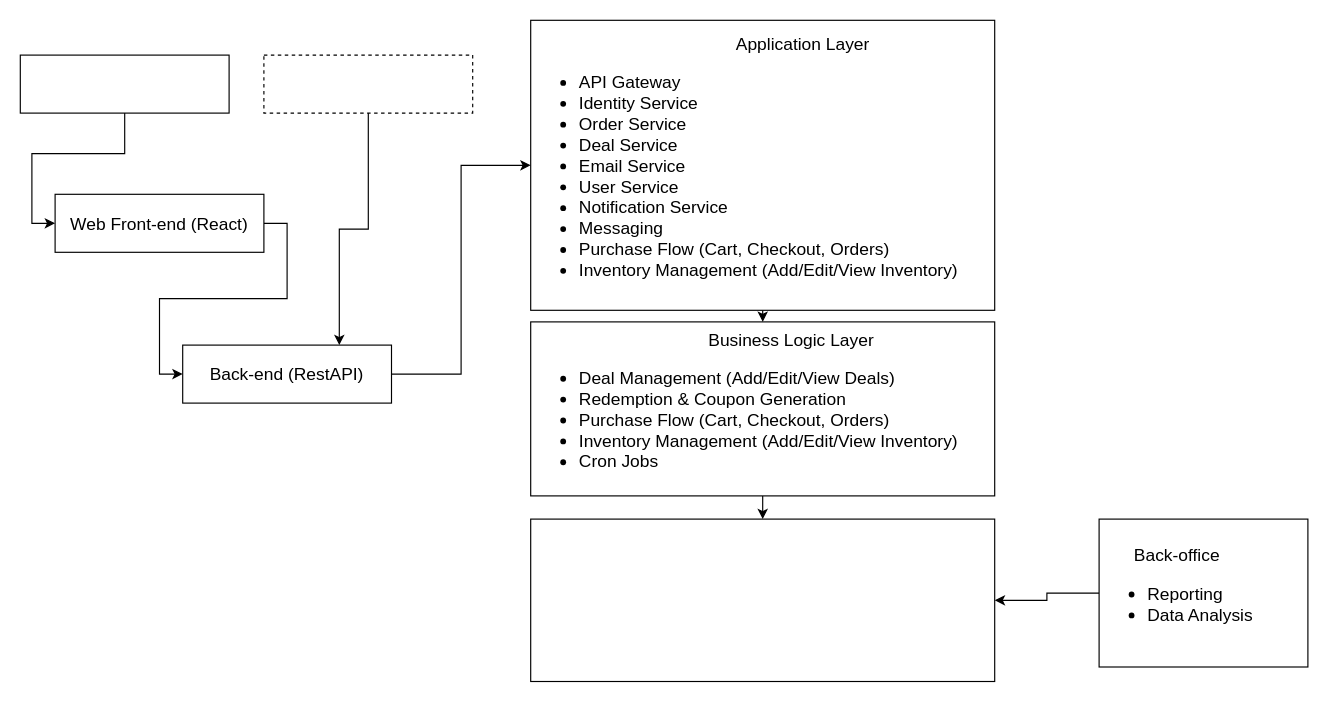
Some shapes in this 1328 by 702 pixel diagram are drawn without their labels. Here are the shapes that lost their labels. From the top down, the box of each, then its label:
(19, 54, 229, 113): Users (Web / Mobile)
(263, 54, 473, 113): Mobile App
(530, 518, 995, 682): Data Storage Layer SQL DB (e.g., PostgreSQL) Redis (Cache)
